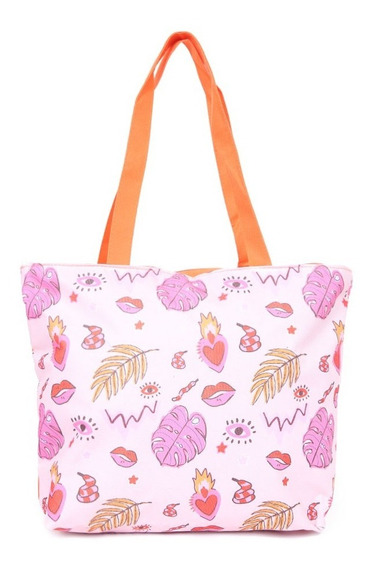cartera: (21, 31, 356, 539)
